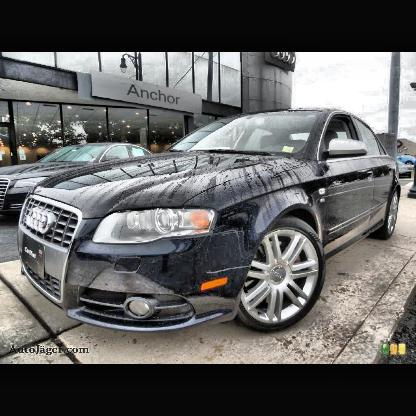Audi S4 Sedan 2007: (16, 110, 402, 335)
